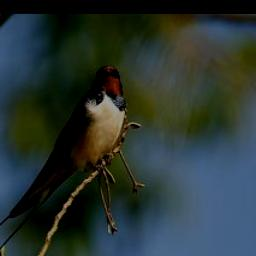Swallow: (0, 63, 124, 256)
